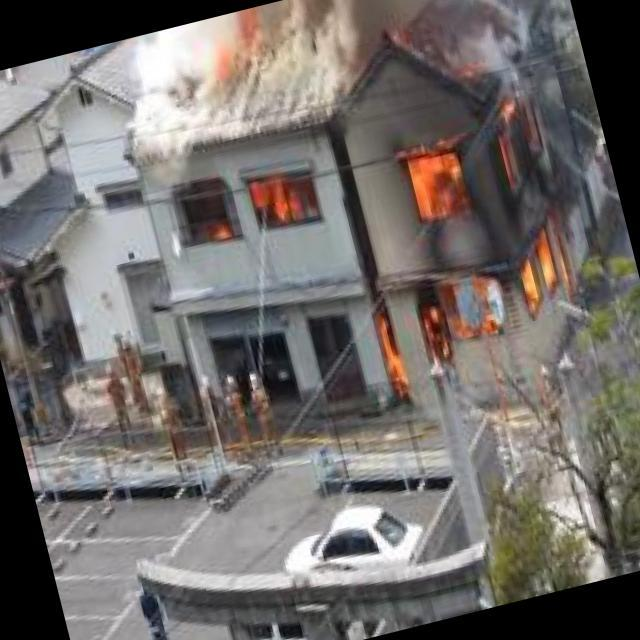Fire: (310, 50, 622, 424), (180, 155, 332, 255), (181, 4, 292, 114)
